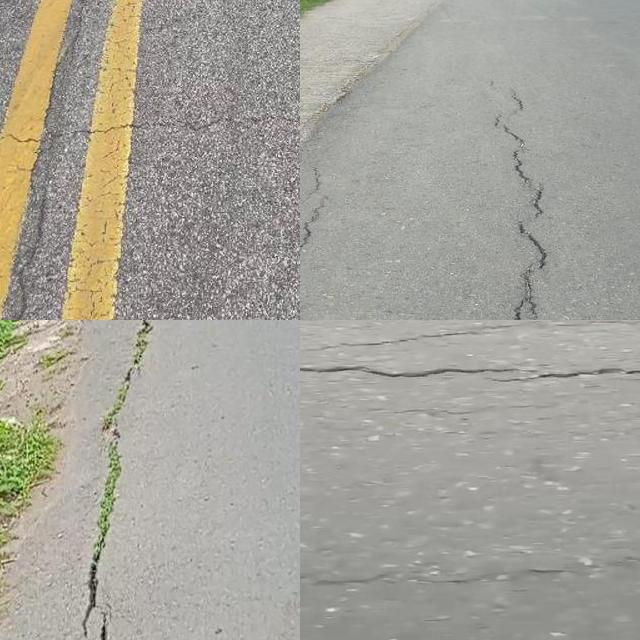Melintang: (300, 349, 640, 400), (62, 106, 300, 156)
Memanjang: (68, 320, 151, 640), (482, 72, 557, 320), (300, 159, 338, 264)
